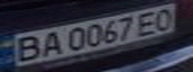0: (63, 25, 87, 52), (84, 20, 106, 47)
6: (103, 17, 124, 44)
7: (115, 13, 139, 42)
A: (33, 29, 66, 58)
B: (3, 34, 48, 64)
E: (133, 8, 163, 37)
O: (148, 6, 181, 31)
